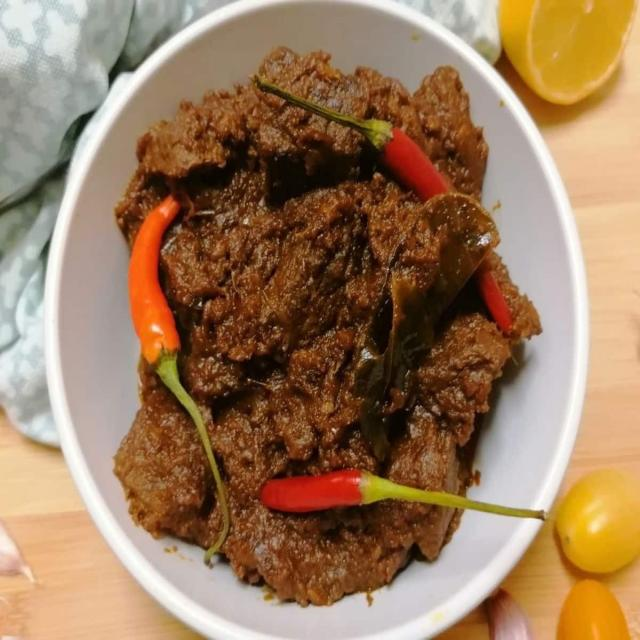Rendang: (106, 61, 532, 614)
